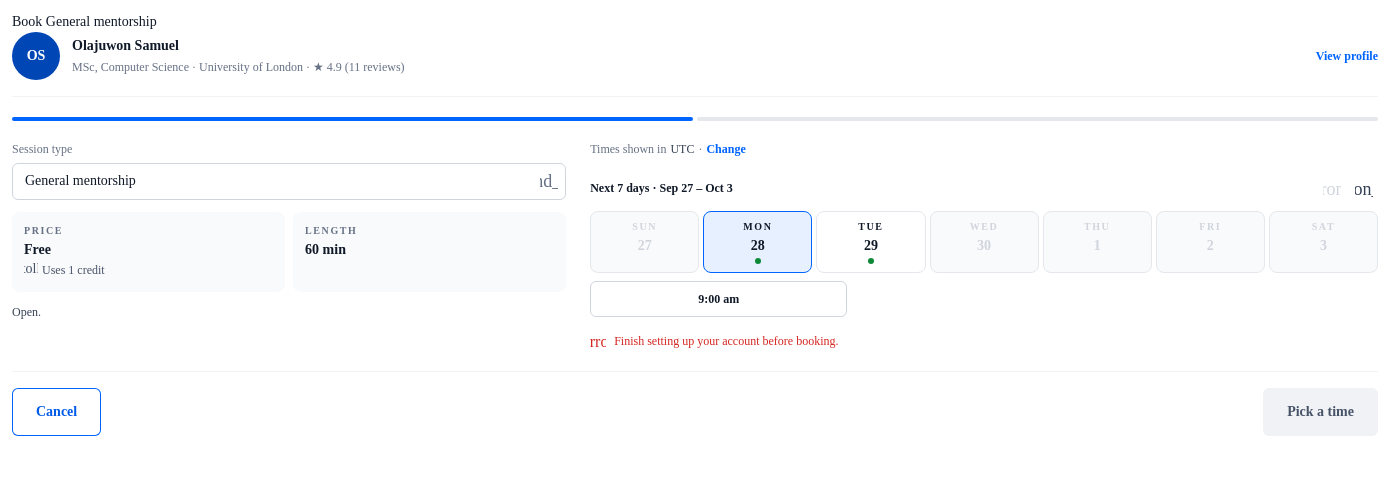
Scenario: BookingFlow: finish setup before booking › shows the box when the server says to finish onboarding first, not an error
Click the radio button labelled "9:00 am": (719, 300) x1=590 y1=282 x2=848 y2=318
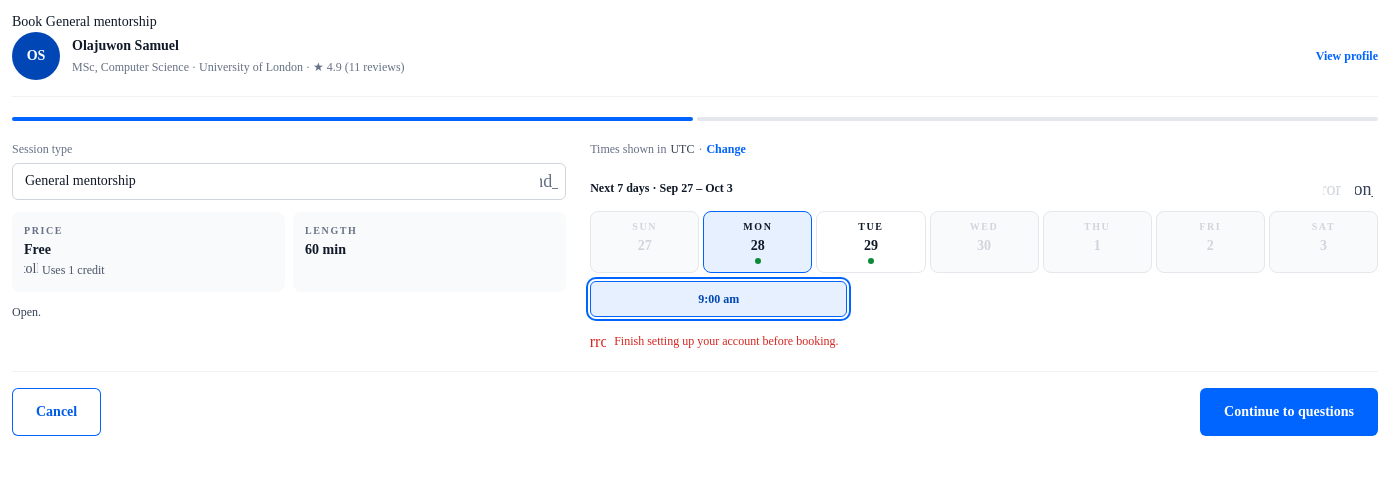
Click the button "Continue to questions": (1289, 412) x1=1200 y1=388 x2=1378 y2=436
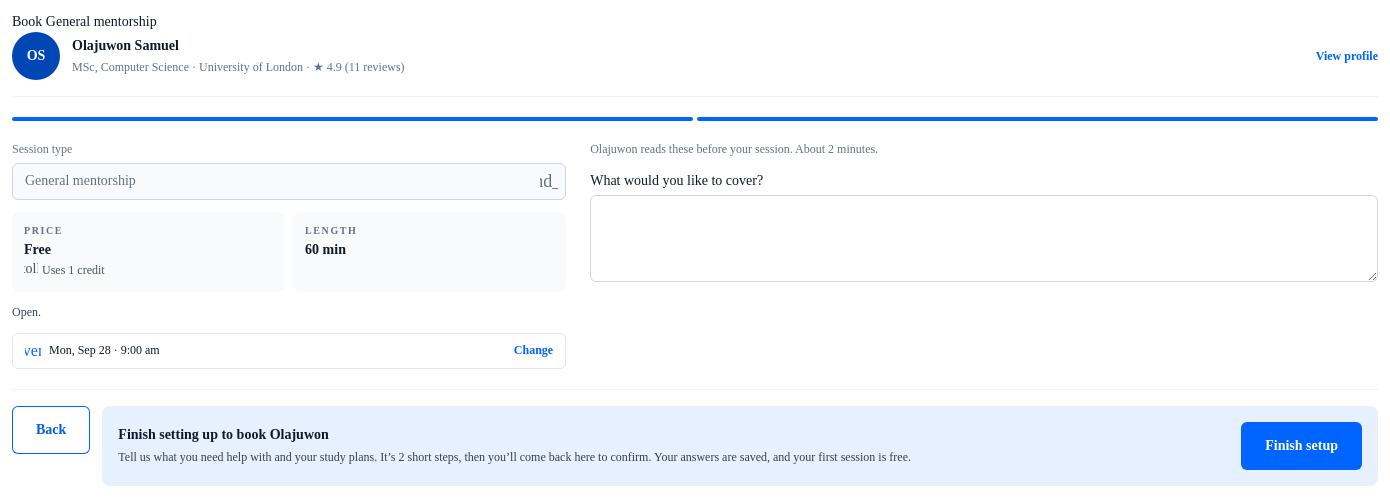
Expected: the element "Finish setting up" is shown, x1=102 y1=406 x2=1378 y2=486
Expected: the message "error Finish setting up your account before booking." is gone
